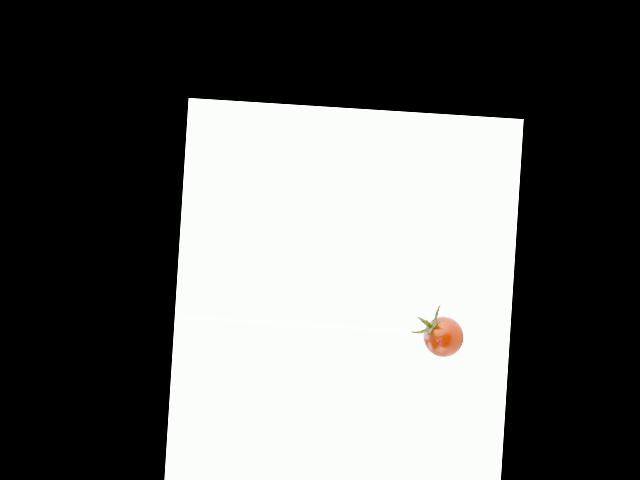tomato: (422, 316, 464, 358)
